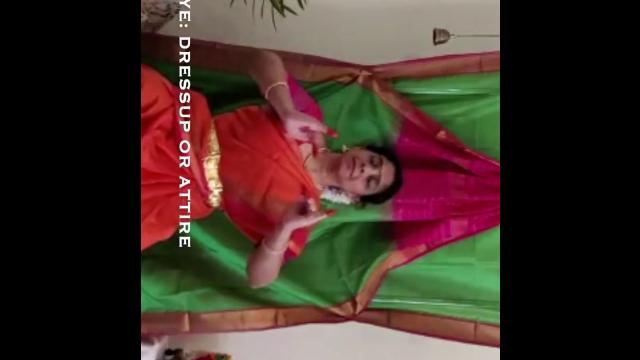mrighasheesh: (274, 106, 348, 166), (268, 178, 348, 231)
